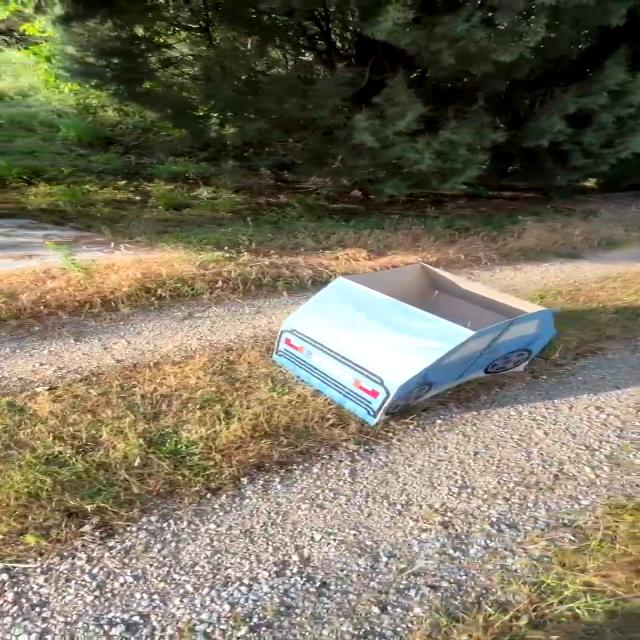blue_car: (221, 253, 593, 452)
